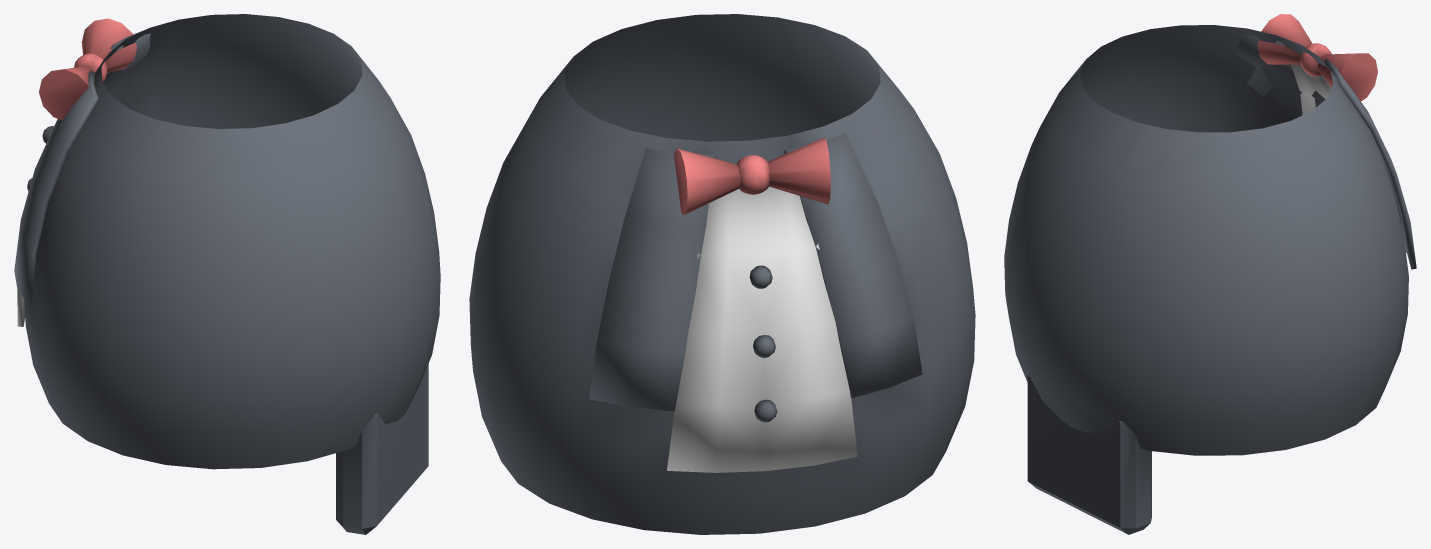
The model's file is tuxedo_chest.fbx.
The picture shows the model from 3 angles, left to right: view 1: azimuth 30°, elevation 25°; view 2: azimuth 150°, elevation 25°; view 3: azimuth 270°, elevation 25°; orthographic projection. The views are drawn at different scales.
Visible parts, largest first — view 1: tuxedo_chest; view 2: tuxedo_chest; view 3: tuxedo_chest.
Boxes of the visible parts, box(x1,y1,x2,y2) form: tuxedo_chest: box(14, 14, 440, 534); tuxedo_chest: box(469, 14, 975, 534); tuxedo_chest: box(1004, 14, 1416, 534).
Bounding box in the file's own units: 1.49 × 1.57 × 1.49.
